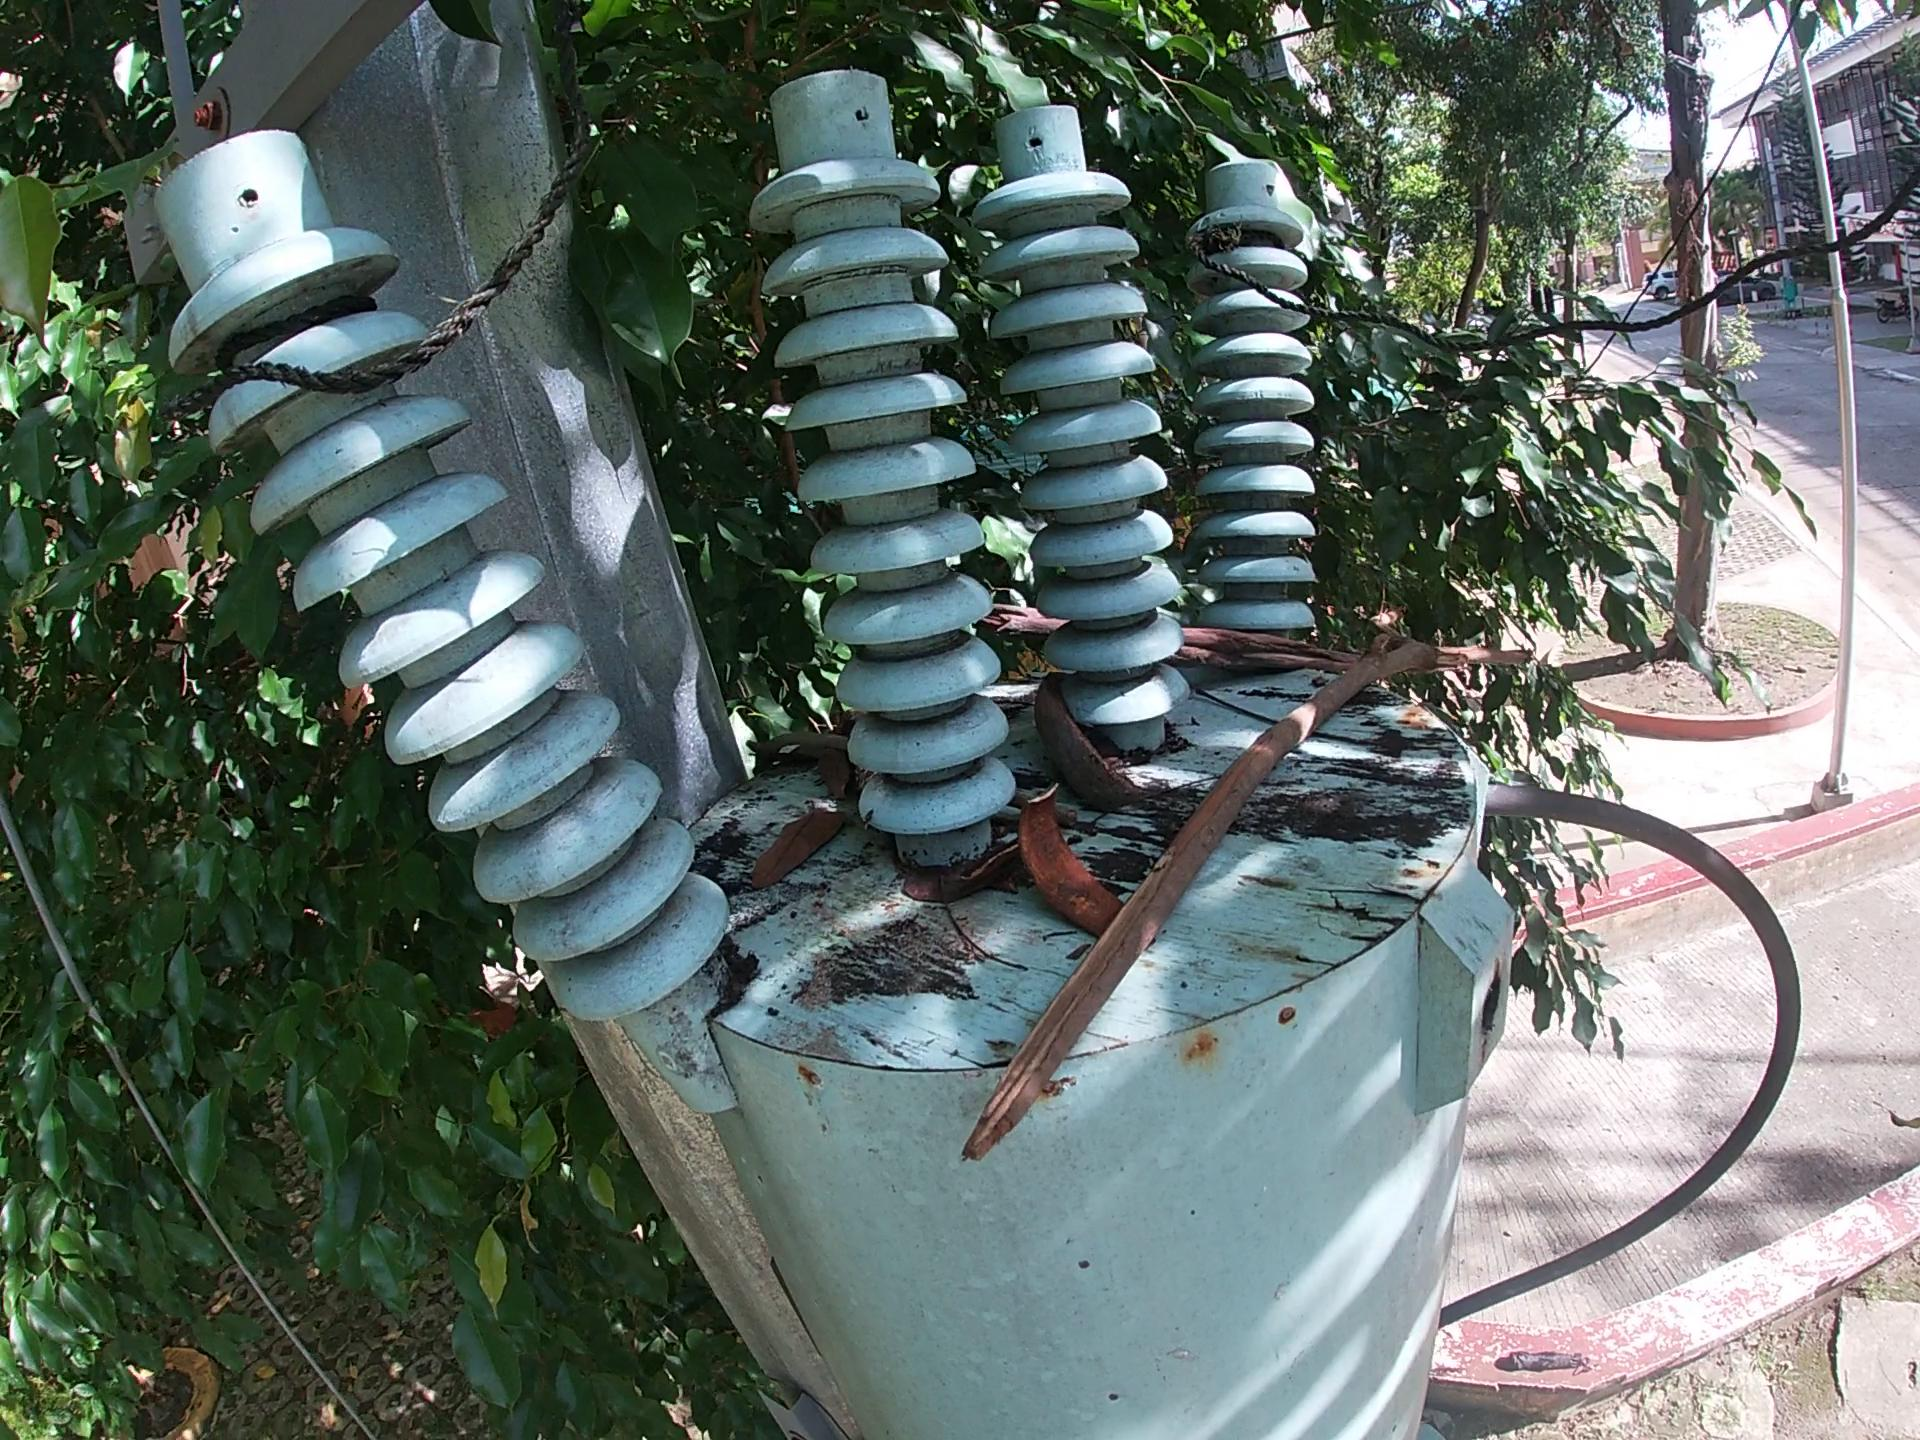leaf: (742, 817, 844, 892), (887, 865, 960, 920), (831, 770, 863, 821)
mahogany fruit: (1023, 669, 1147, 800), (1017, 793, 1123, 932)
tree branch: (957, 622, 1563, 1181), (1178, 614, 1382, 663), (948, 909, 1040, 976), (821, 700, 865, 827), (736, 725, 863, 750), (1318, 734, 1448, 756), (962, 850, 1017, 900), (1194, 684, 1274, 718), (968, 601, 1054, 632), (999, 800, 1079, 826)
